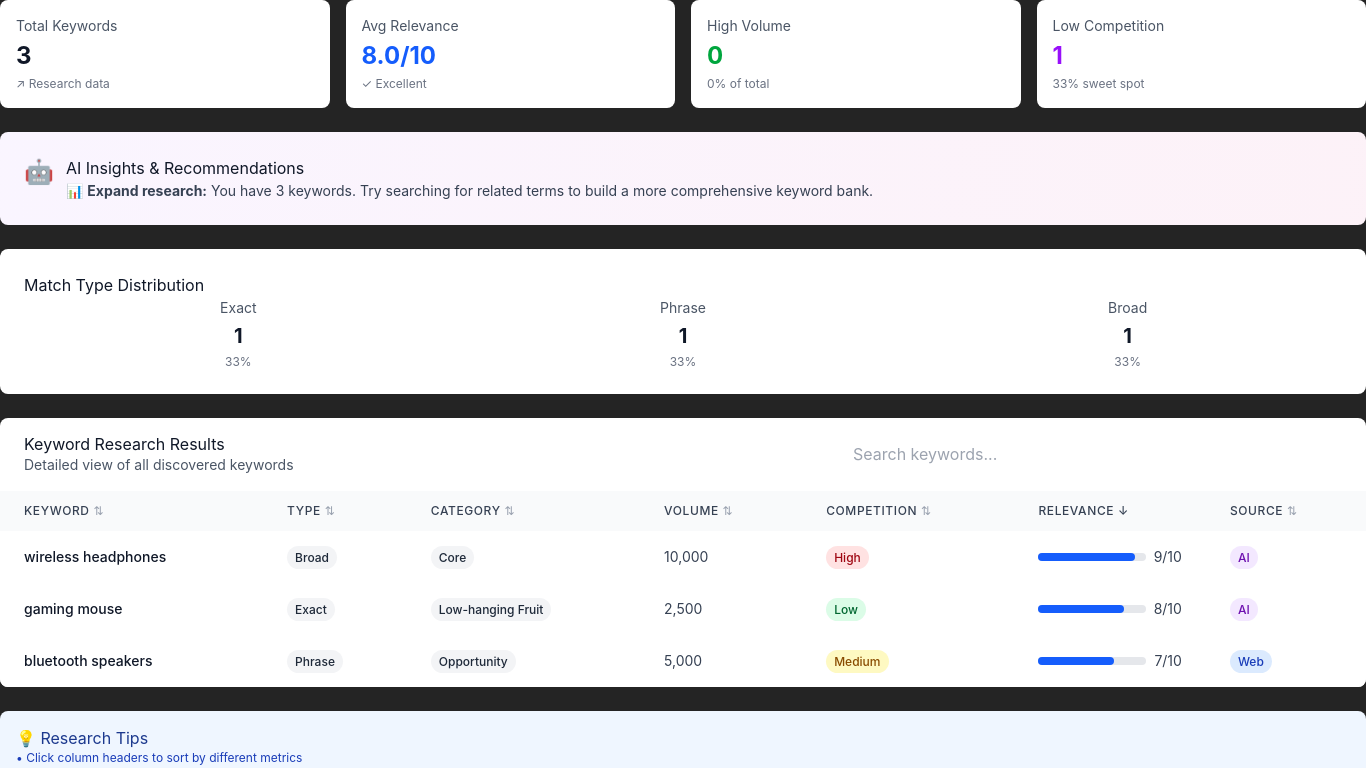
Test: Dashboard › Sorting Functionality › should toggle sort direction on repeated clicks
// First click - descending
Click the column heading "Keyword ⇅" at (59, 511), box [0, 491, 263, 531]
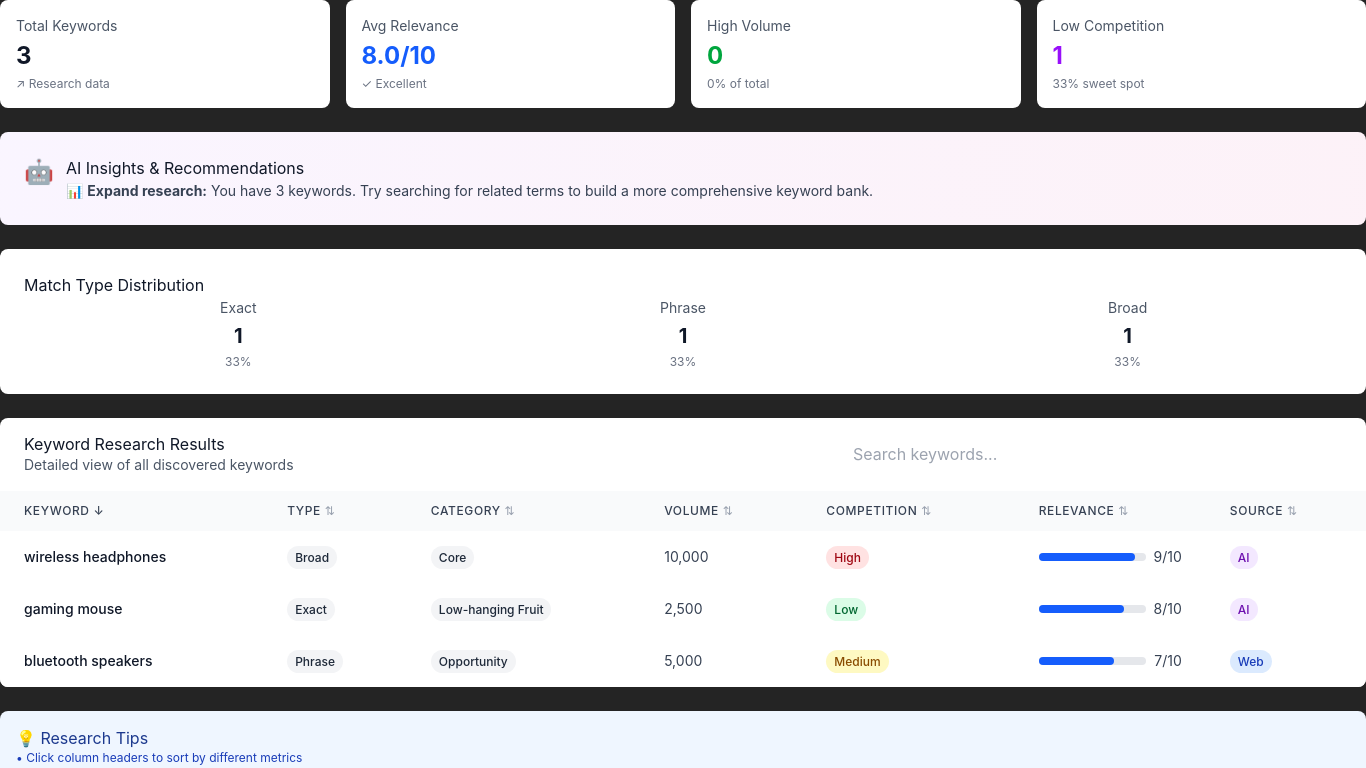
Check: the column heading "Keyword ↓" is shown
// Second click - ascending
Click the column heading "Keyword ↓" at (59, 511), box [0, 491, 263, 531]
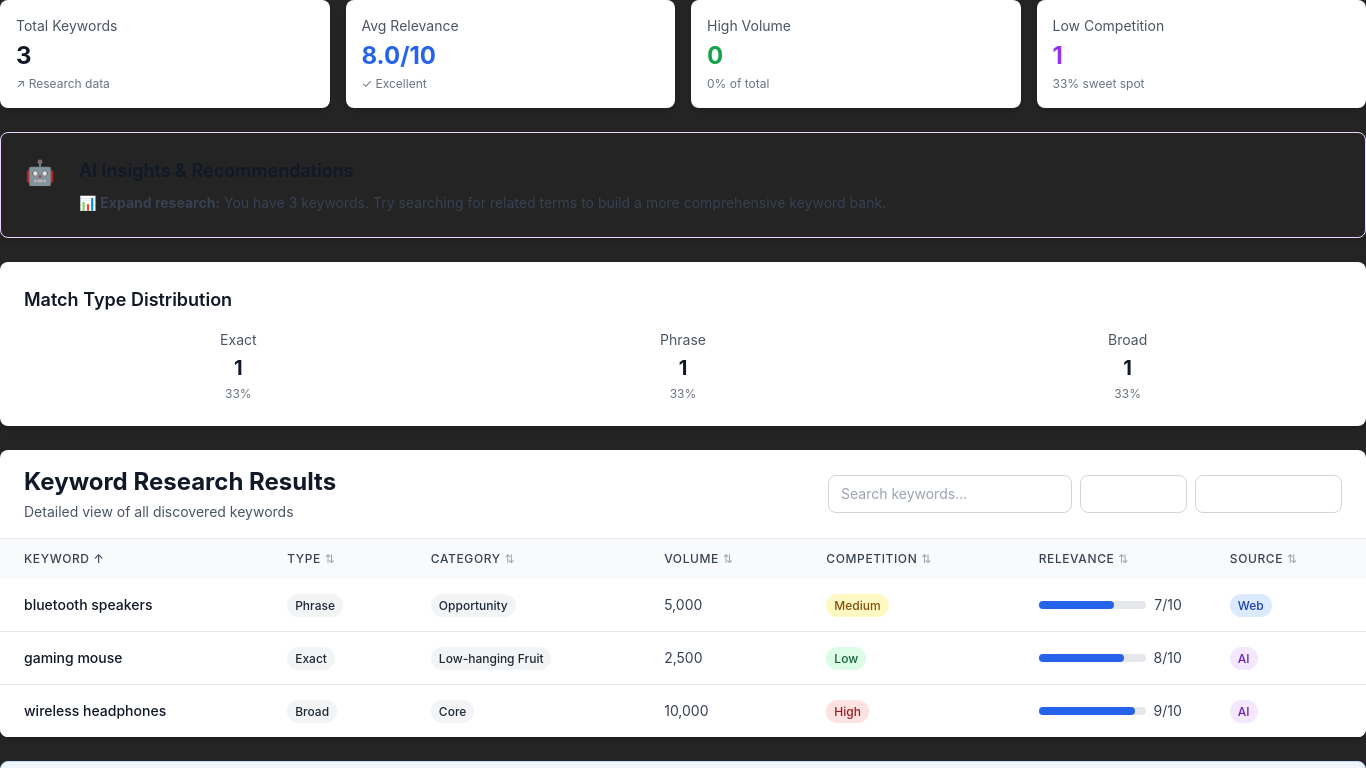
Check: the column heading "Keyword ↑" is shown, box [0, 539, 263, 579]
